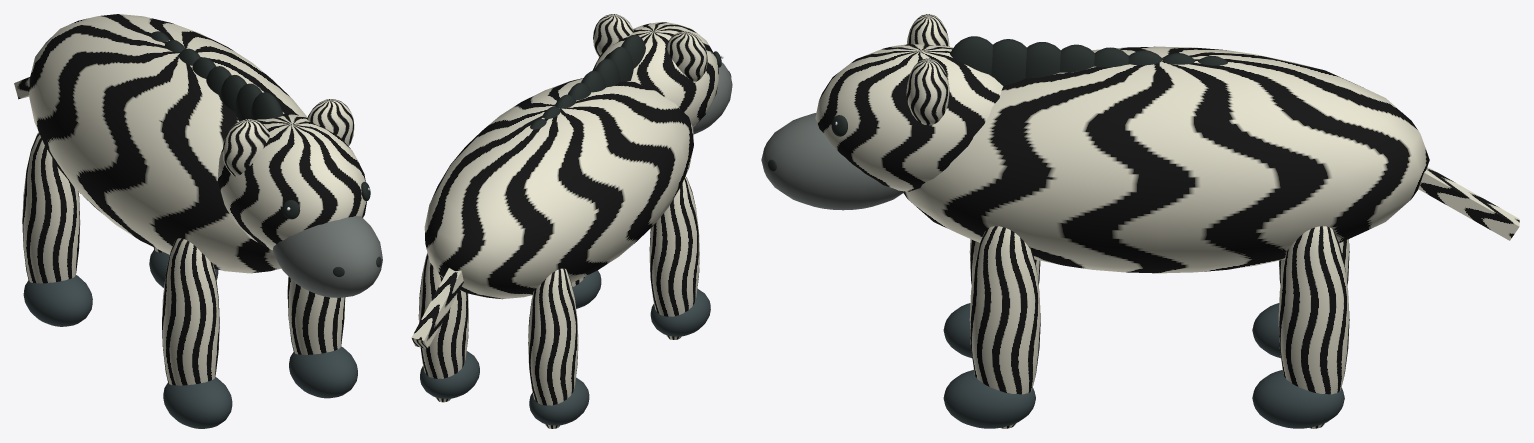
File: city-zebra.glb
3 renders of one model, left to right at view 1: azimuth 30°, elevation 25°; view 2: azimuth 150°, elevation 25°; view 3: azimuth 270°, elevation 25°, orthographic. The views are drawn at different scales.
Visible parts, largest first — view 1: Animal_zebra, Walk_FL, Walk_BL, Walk_FR, Walk_BR; view 2: Animal_zebra, Walk_BL, Walk_FL, Walk_BR, Walk_FR; view 3: Animal_zebra, Walk_BR, Walk_FR, Walk_BL, Walk_FL.
Boxes of the visible parts, x1,y1,x2,y2 form: Animal_zebra: (14, 14, 382, 297); Walk_FL: (162, 238, 232, 428); Walk_BL: (22, 132, 92, 326); Walk_FR: (287, 276, 357, 398); Walk_BR: (149, 247, 218, 287); Animal_zebra: (411, 14, 732, 348); Walk_BL: (528, 268, 589, 428); Walk_FL: (649, 176, 710, 339); Walk_BR: (418, 253, 479, 402); Walk_FR: (571, 270, 601, 308); Animal_zebra: (761, 14, 1519, 273); Walk_BR: (1252, 226, 1349, 428); Walk_FR: (943, 226, 1040, 428); Walk_BL: (1252, 239, 1349, 358); Walk_FL: (943, 239, 1040, 357).
Bounding box in the file's own units: 1.6 × 2.56 × 4.91.
Materials: 5 (1 with a texture image).
